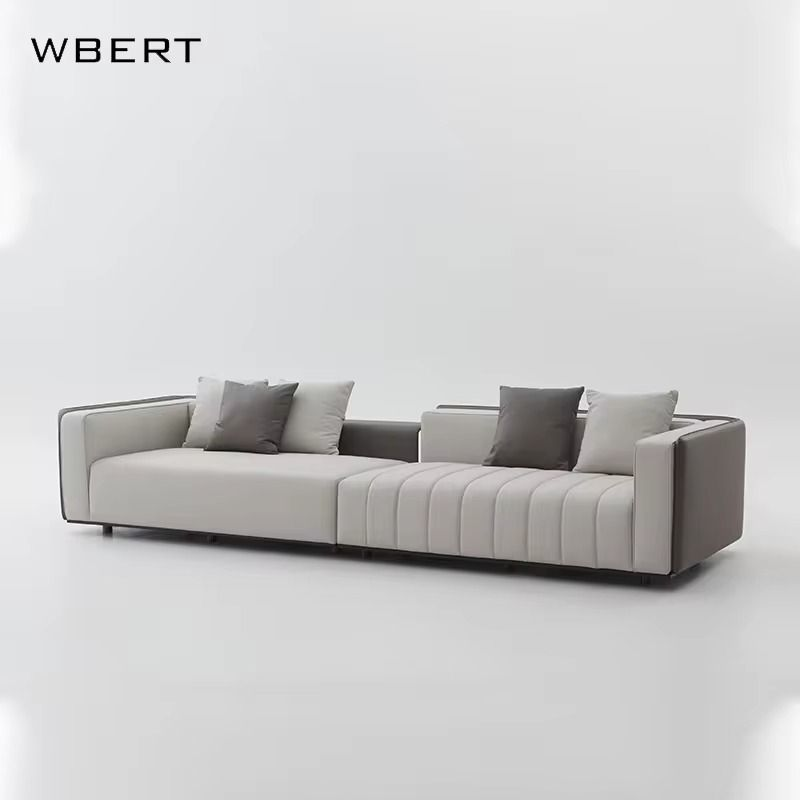3seatersofa: (59, 376, 744, 579)
backrest: (340, 404, 498, 464), (672, 415, 728, 428), (573, 410, 584, 461)
leftarmrest: (633, 417, 745, 574)
leg: (622, 573, 651, 584), (102, 524, 112, 535), (362, 551, 371, 556), (208, 536, 215, 540)
pillow: (484, 387, 676, 474), (184, 378, 352, 454)
rightarmrest: (59, 398, 190, 522)
seat: (89, 448, 633, 570)
